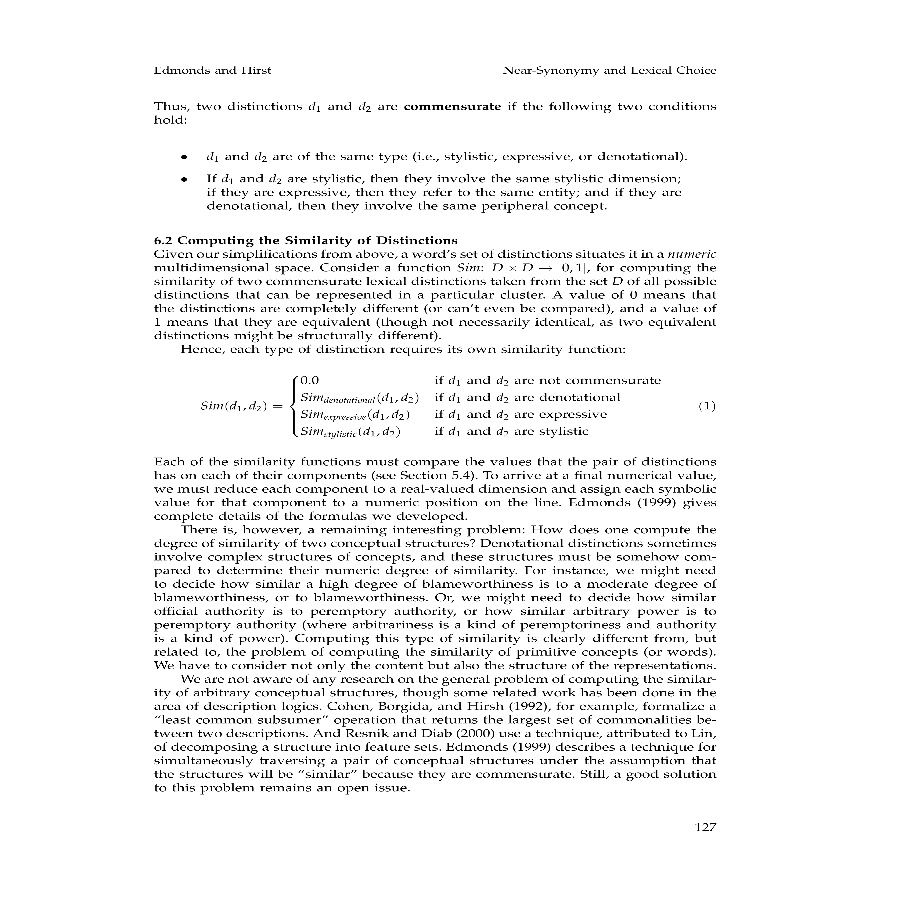eq: (198, 373, 663, 441)
